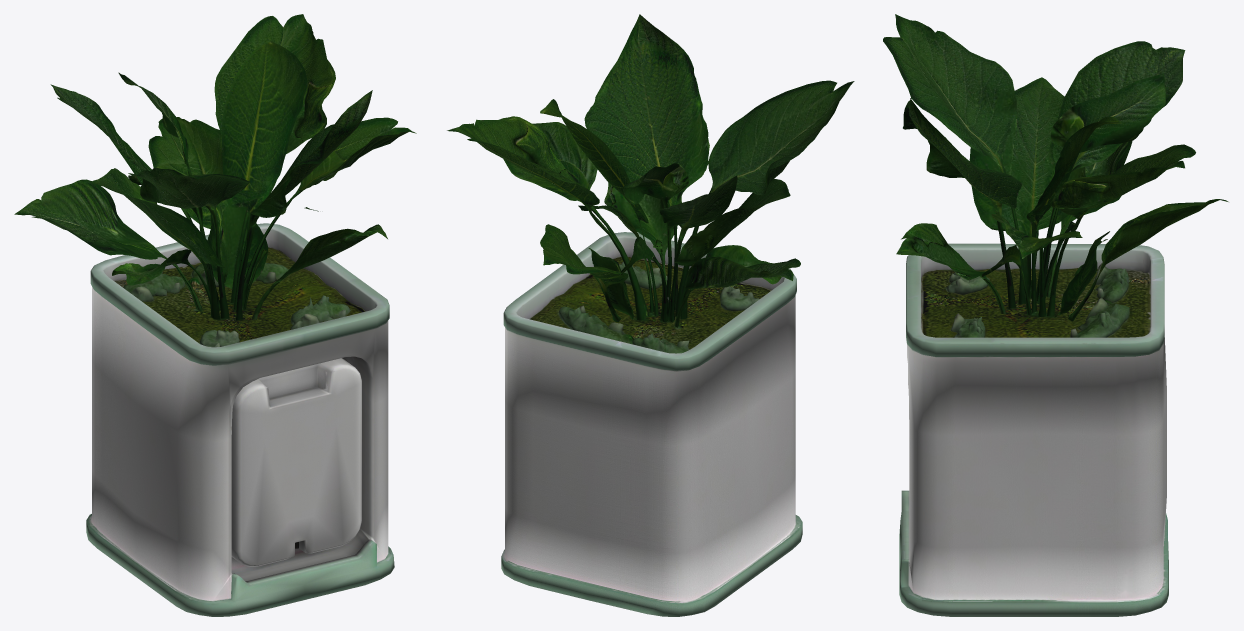
File: potted+plant+3d+model.glb
The picture shows the model from 3 angles, left to right: view 1: azimuth 30°, elevation 25°; view 2: azimuth 150°, elevation 25°; view 3: azimuth 270°, elevation 25°; orthographic projection. The views are drawn at different scales.
Parts seen in each view (by area): view 1: tripo_node_797ff179-61b1-4b32-8547-fd7df2a45a69; view 2: tripo_node_797ff179-61b1-4b32-8547-fd7df2a45a69; view 3: tripo_node_797ff179-61b1-4b32-8547-fd7df2a45a69.
Boxes of the visible parts, <box> form: tripo_node_797ff179-61b1-4b32-8547-fd7df2a45a69: <box>14,14,416,616</box>; tripo_node_797ff179-61b1-4b32-8547-fd7df2a45a69: <box>447,14,854,616</box>; tripo_node_797ff179-61b1-4b32-8547-fd7df2a45a69: <box>883,14,1228,616</box>.
Bounding box in the file's own units: 0.7637 × 0.998 × 0.623.
Materials: 1 (1 with a texture image).
